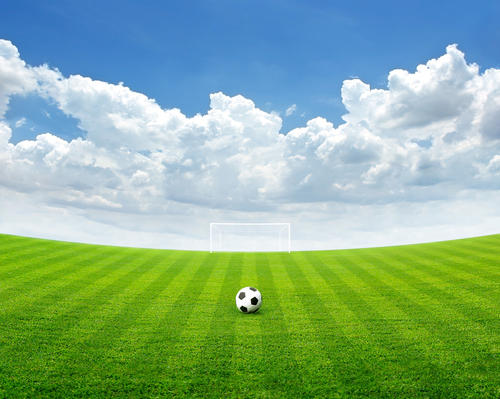football: (233, 284, 264, 316)
